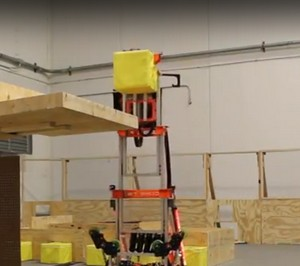cube: (114, 52, 158, 93)
